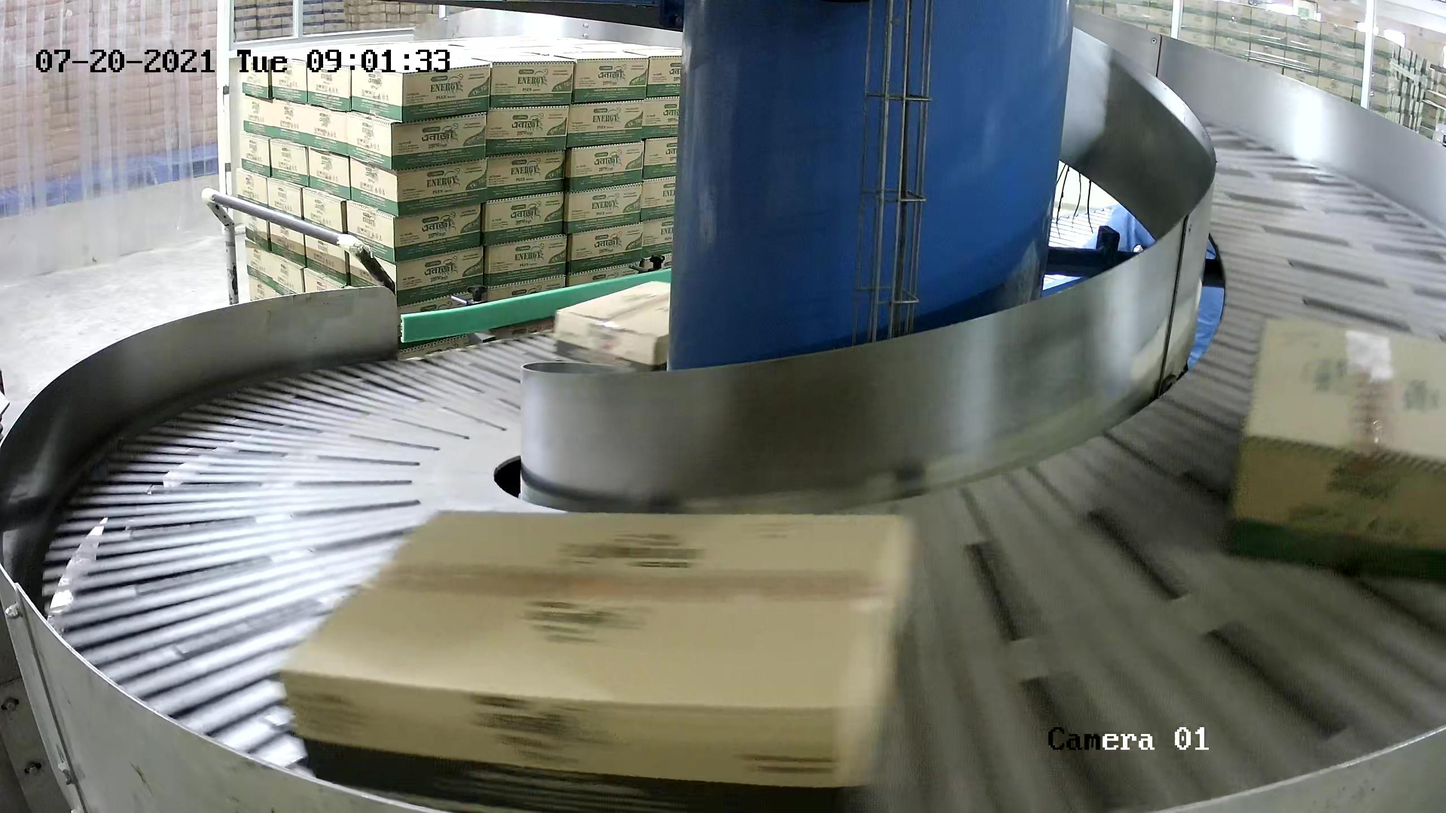Box: (274, 503, 920, 813), (1226, 313, 1446, 583), (552, 278, 672, 370)
